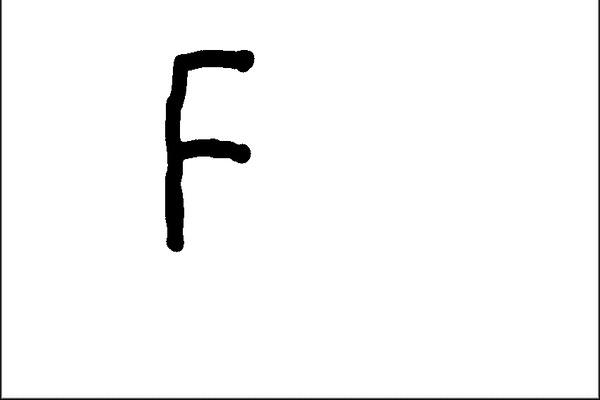F: (157, 45, 259, 253)
